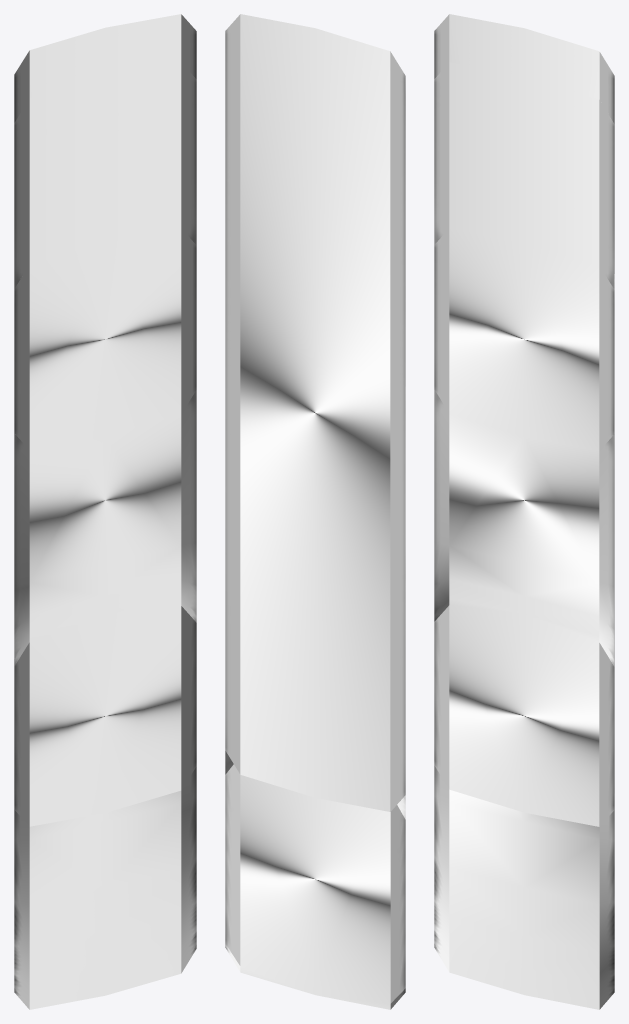
The model's file is box_fight_model__fight.glb.
3 views of the same model, side by side, from view 1: azimuth 30°, elevation 25°; view 2: azimuth 150°, elevation 25°; view 3: azimuth 330°, elevation 25° (orthographic).
Parts seen in each view (by area): view 1: polygon0; view 2: polygon0; view 3: polygon0.
Boxes of the visible parts, x1=… form: polygon0: x1=14, y1=14, x2=196, y2=1009; polygon0: x1=225, y1=14, x2=405, y2=1009; polygon0: x1=434, y1=14, x2=614, y2=1009.
Size of the model in its own units: 1.2 by 6.13 by 0.0119.
Materials: 1 (1 with a texture image).
